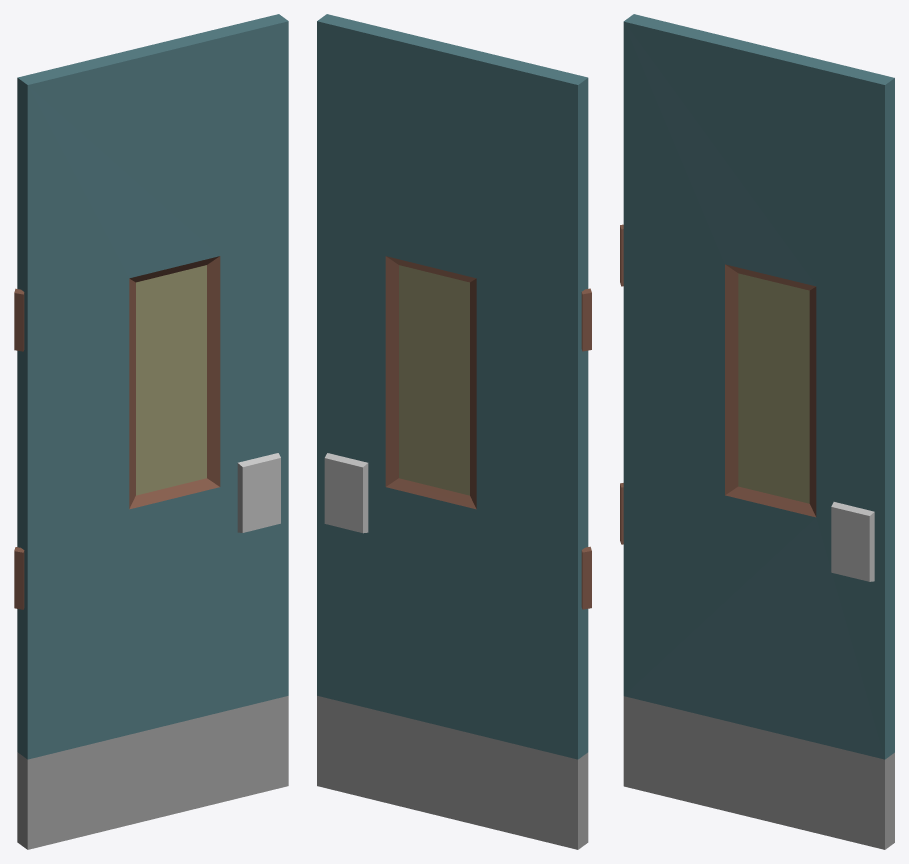
File: SM_Door_B2_Right.fbx
3 views of the same model, side by side, from view 1: azimuth 30°, elevation 25°; view 2: azimuth 150°, elevation 25°; view 3: azimuth 330°, elevation 25° (orthographic).
Visible parts, largest first — view 1: SM_Door_B2_Right; view 2: SM_Door_B2_Right; view 3: SM_Door_B2_Right.
Part boxes in pixels (x1,y1,x2,y2): SM_Door_B2_Right: [14, 14, 288, 849]; SM_Door_B2_Right: [317, 14, 591, 849]; SM_Door_B2_Right: [620, 14, 894, 849].
Bounding box in the file's own units: 88.06 × 238 × 10.04.
1 material, 1 textured.
